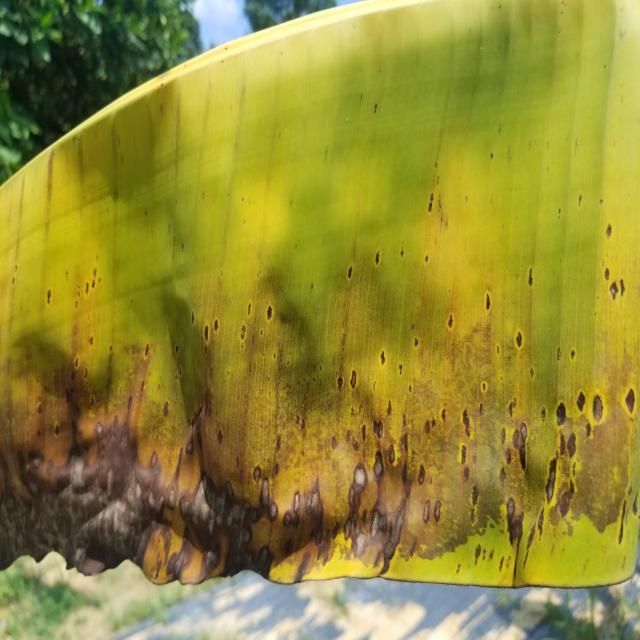Early_rust: (0, 13, 640, 597)
